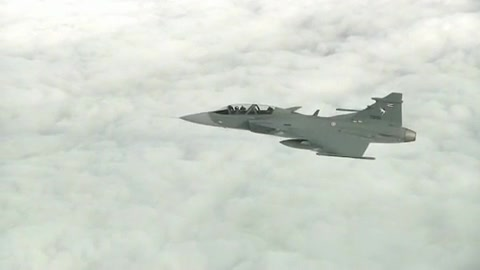aeroplane: (179, 92, 419, 160)
